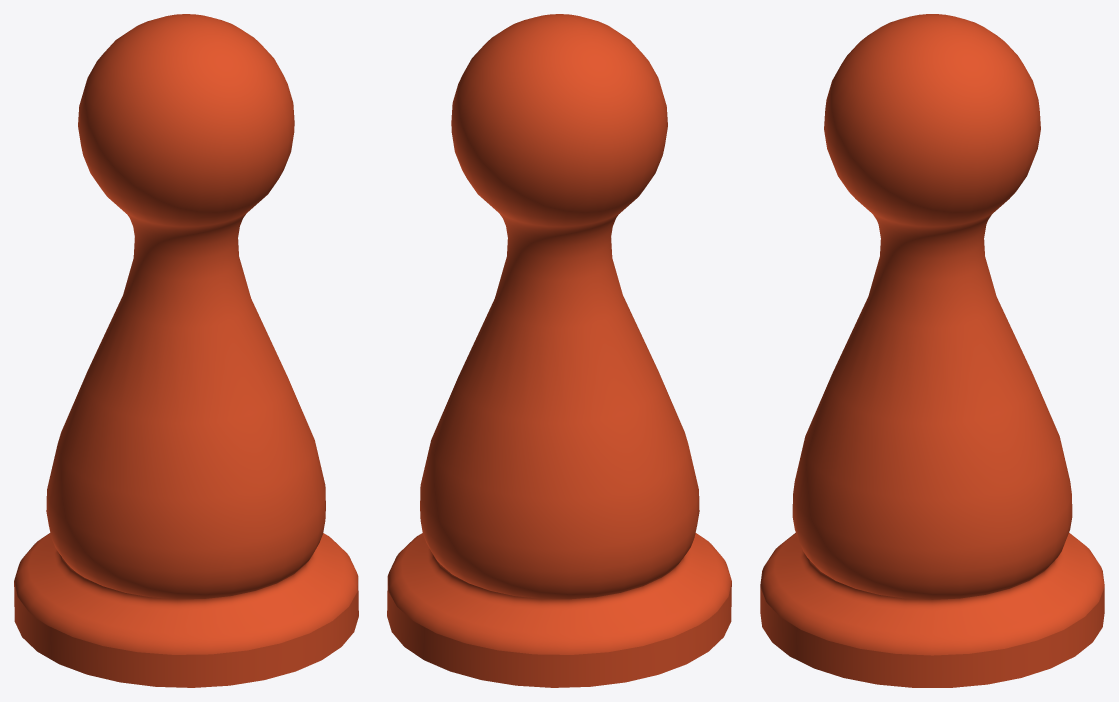
File: soldierred.obj
The picture shows the model from 3 angles, left to right: view 1: azimuth 30°, elevation 25°; view 2: azimuth 150°, elevation 25°; view 3: azimuth 270°, elevation 25°; orthographic projection.
Parts seen in each view (by area): view 1: mesh3, mesh4, mesh2, mesh1; view 2: mesh3, mesh4, mesh2, mesh1; view 3: mesh3, mesh4, mesh2, mesh1.
Part boxes in pixels (x1,y1,x2,y2): mesh3: [46, 211, 325, 599]; mesh4: [78, 14, 294, 226]; mesh2: [14, 533, 358, 654]; mesh1: [14, 578, 358, 687]; mesh3: [420, 211, 699, 599]; mesh4: [451, 14, 667, 226]; mesh2: [387, 533, 731, 654]; mesh1: [387, 578, 731, 687]; mesh3: [792, 211, 1072, 599]; mesh4: [824, 14, 1040, 226]; mesh2: [760, 532, 1104, 655]; mesh1: [760, 587, 1104, 687].
Size of the model in its own units: 0.0151 by 0.0286 by 0.0151.
